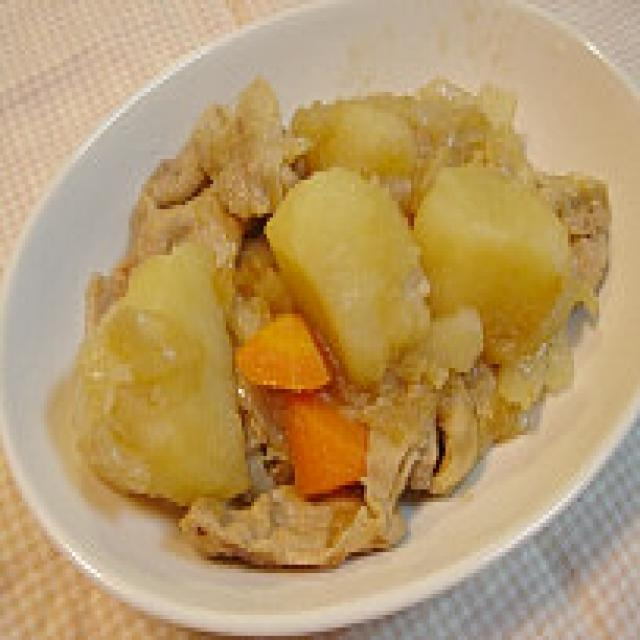牛肉菜式: (0, 0, 637, 636)
